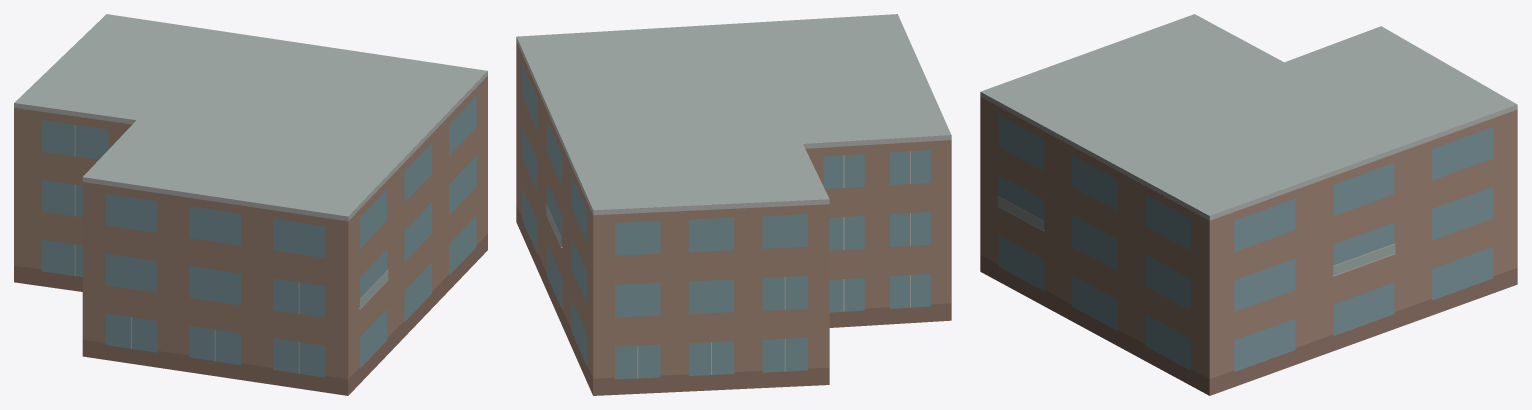
The model's file is survey-upis-32776650.glb.
3 renders of one model, left to right at view 1: azimuth 30°, elevation 25°; view 2: azimuth 150°, elevation 25°; view 3: azimuth 270°, elevation 25°, orthographic. The views are drawn at different scales.
Visible parts, largest first — view 1: survey-upis-32776650.tmp; view 2: survey-upis-32776650.tmp; view 3: survey-upis-32776650.tmp.
Part boxes in pixels (x1=…): survey-upis-32776650.tmp: x1=14, y1=14, x2=487, y2=395; survey-upis-32776650.tmp: x1=516, y1=14, x2=951, y2=395; survey-upis-32776650.tmp: x1=980, y1=14, x2=1517, y2=395.
Size of the model in its own units: 22.05 by 9.15 by 24.79.
